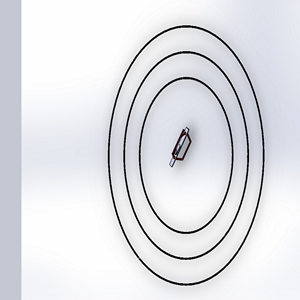circle: (85, 22, 276, 288)
submarine: (157, 121, 206, 169)
